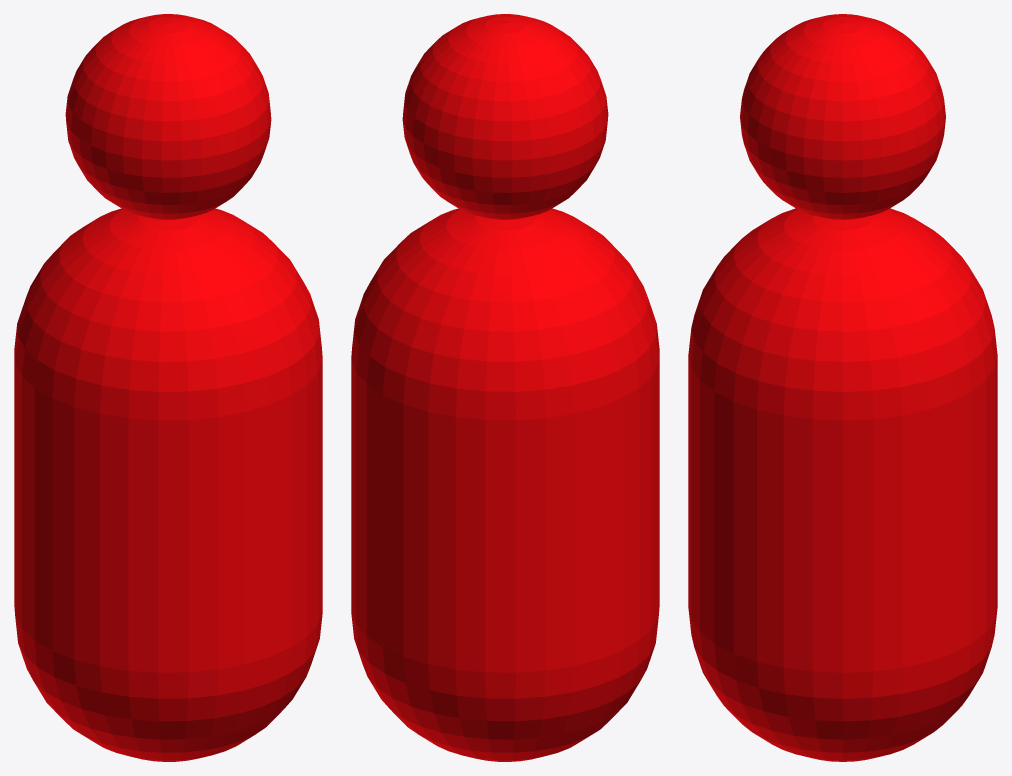
Rendered from rig.glb.
3 views of the same model, side by side, from view 1: azimuth 30°, elevation 25°; view 2: azimuth 150°, elevation 25°; view 3: azimuth 270°, elevation 25° (orthographic).
Visible parts, largest first — view 1: Body, Head; view 2: Body, Head; view 3: Body, Head.
Boxes of the visible parts, left/top/right/bottom form: Body: left=14, top=208, right=322, bottom=761; Head: left=65, top=14, right=271, bottom=219; Body: left=351, top=208, right=659, bottom=761; Head: left=402, top=14, right=608, bottom=219; Body: left=688, top=208, right=997, bottom=761; Head: left=740, top=14, right=945, bottom=219.
Size of the model in its own units: 0.6 by 1.55 by 0.6.
